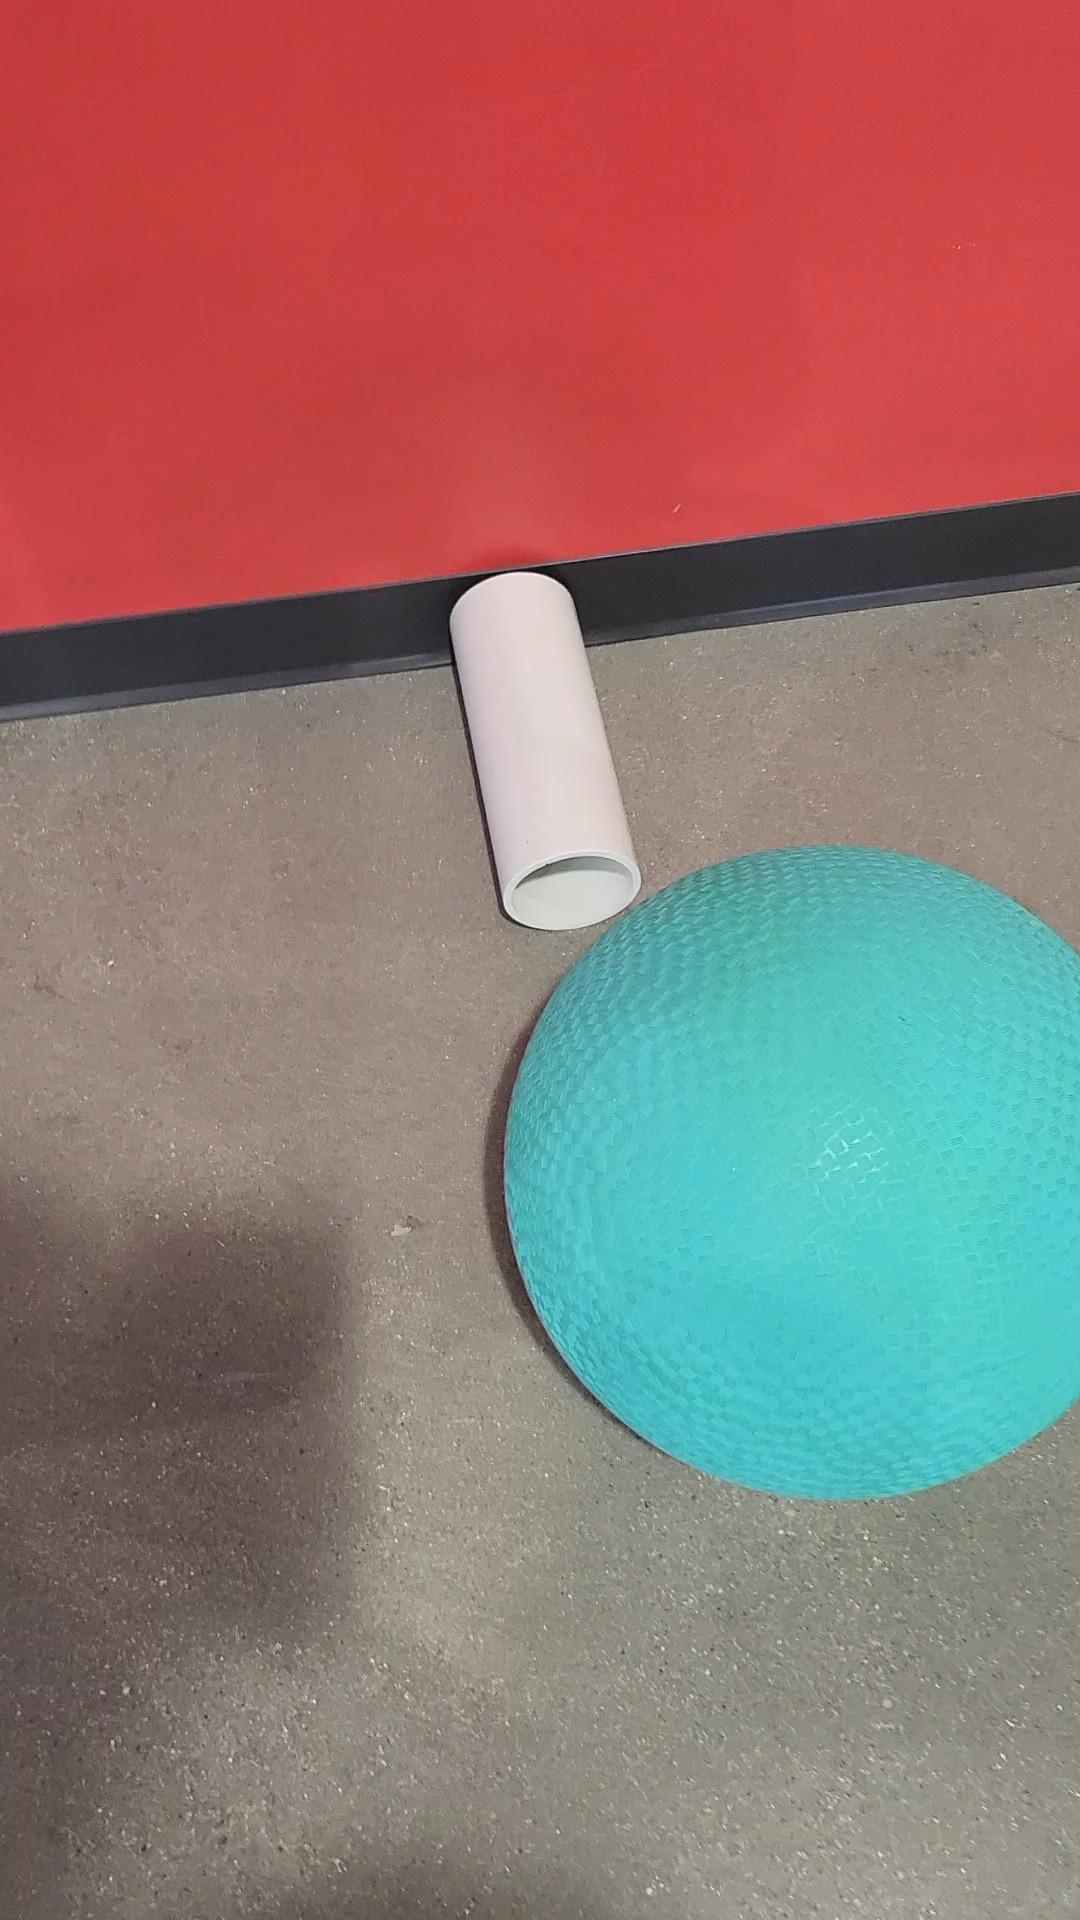algae: (481, 831, 1080, 1509)
coral: (431, 560, 638, 928)
